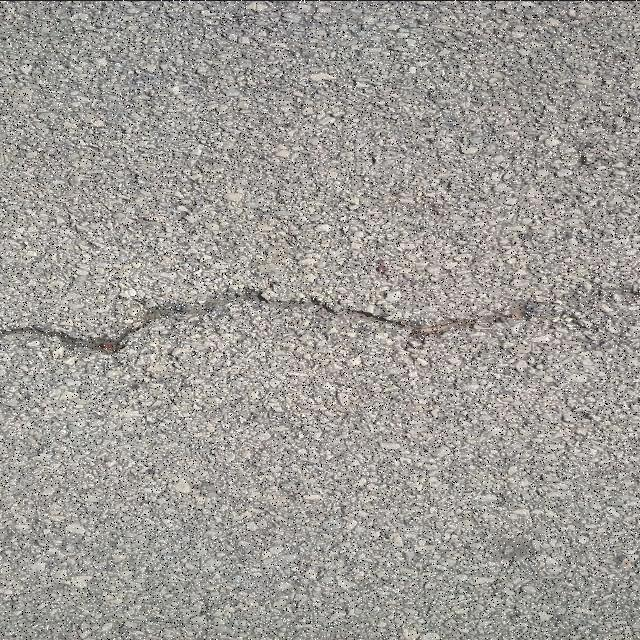Crack: (0, 279, 640, 352)
